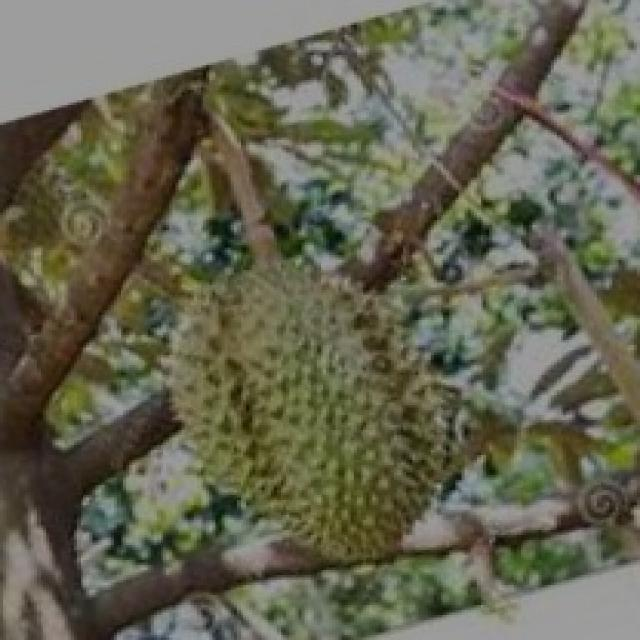fruit: (117, 223, 511, 595)
